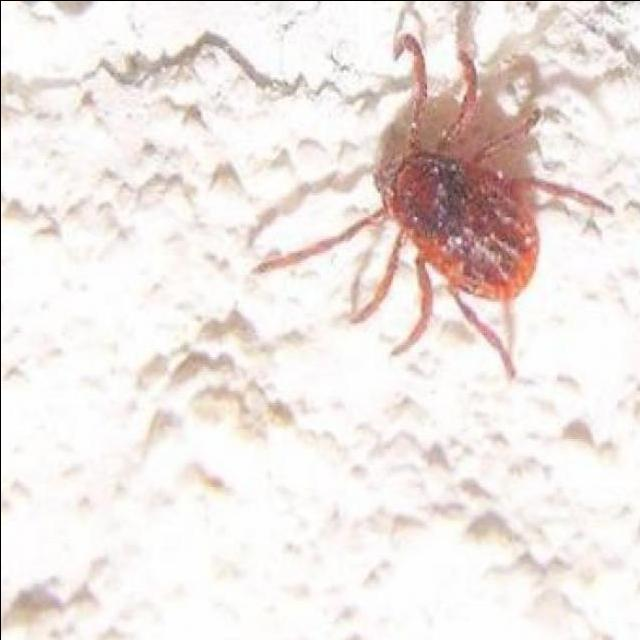Rhipicephalus Sanguineus-F: (251, 2, 614, 380)
